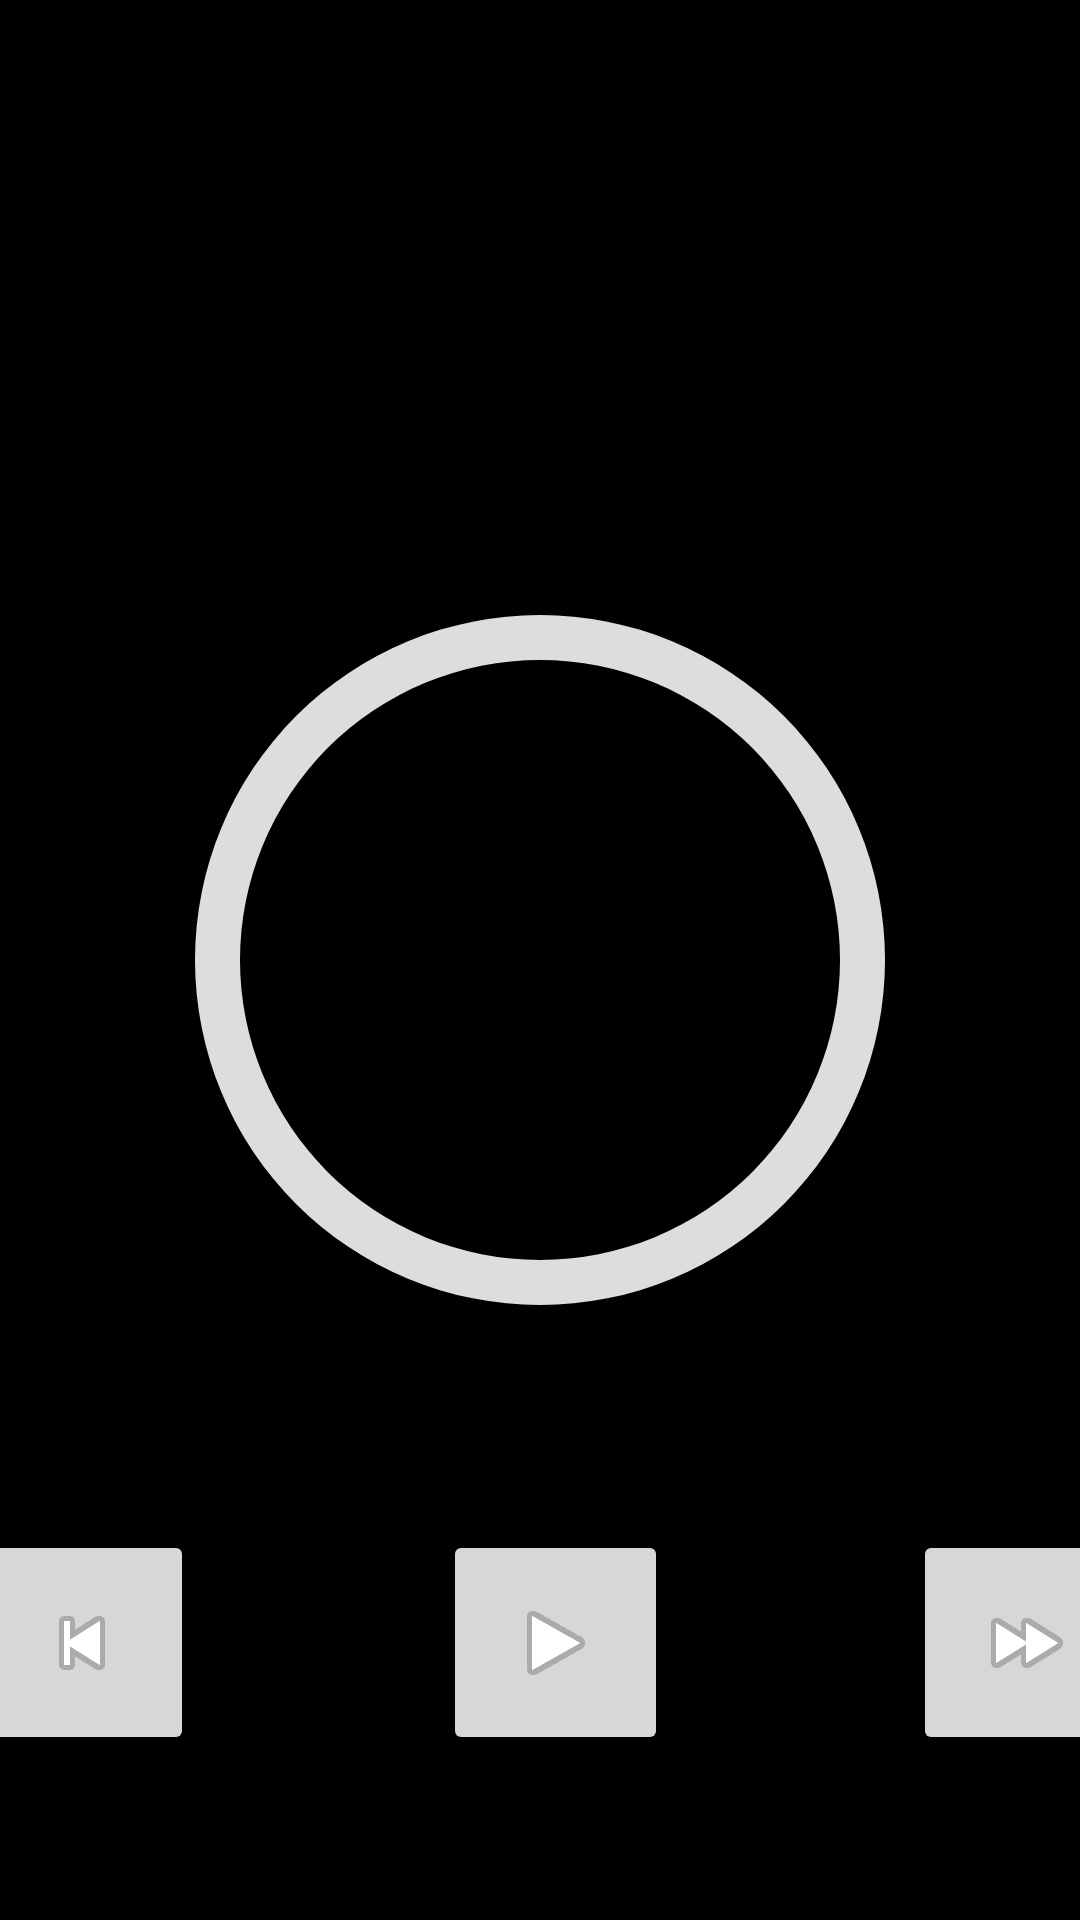

Locate icon controls on the screen. Image size 1080 x 1920, boxes as (x1, y1, x2, y2).
play: (455, 1548, 656, 1737)
